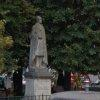Statue: (20, 7, 62, 75)
